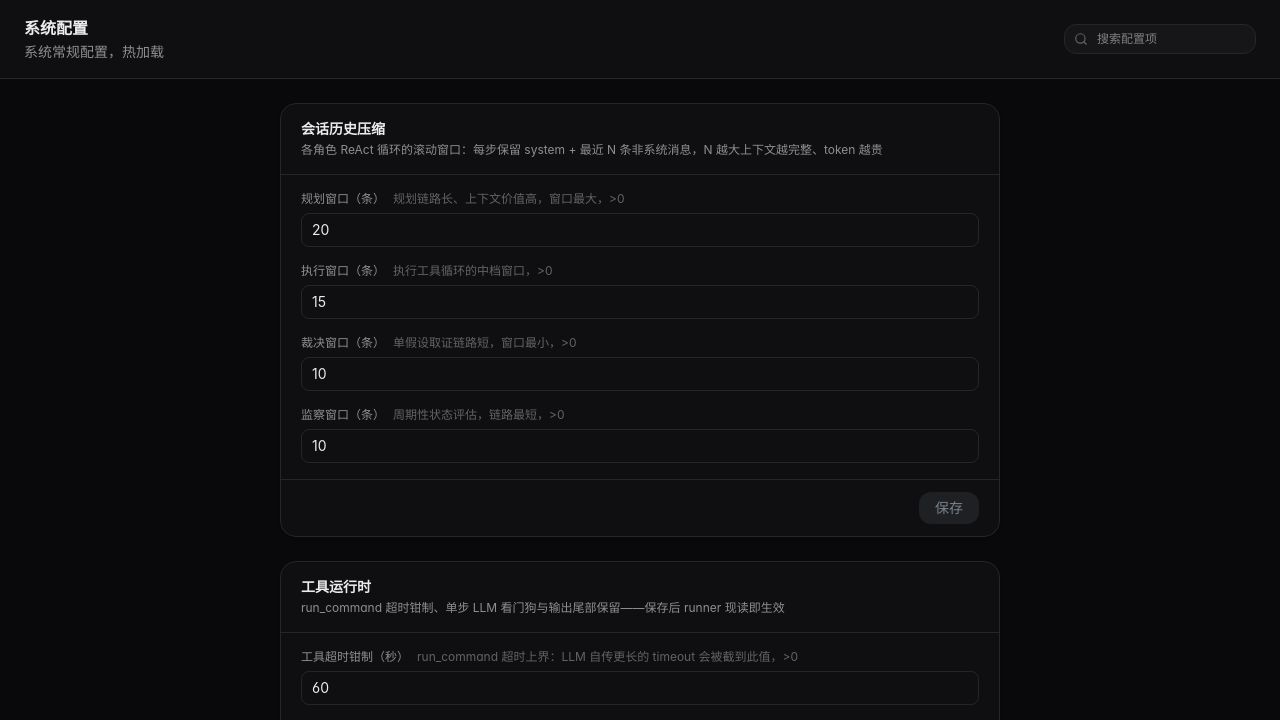
Test: SystemConfig › 编辑 compaction 触发阈值后保存 → 调 saveCompactionSettings 透传新值
The image size is (1280, 720).
Replace the text in the number field showing "20" with "25". click: (640, 230)
box: 301,213 -> 979,247
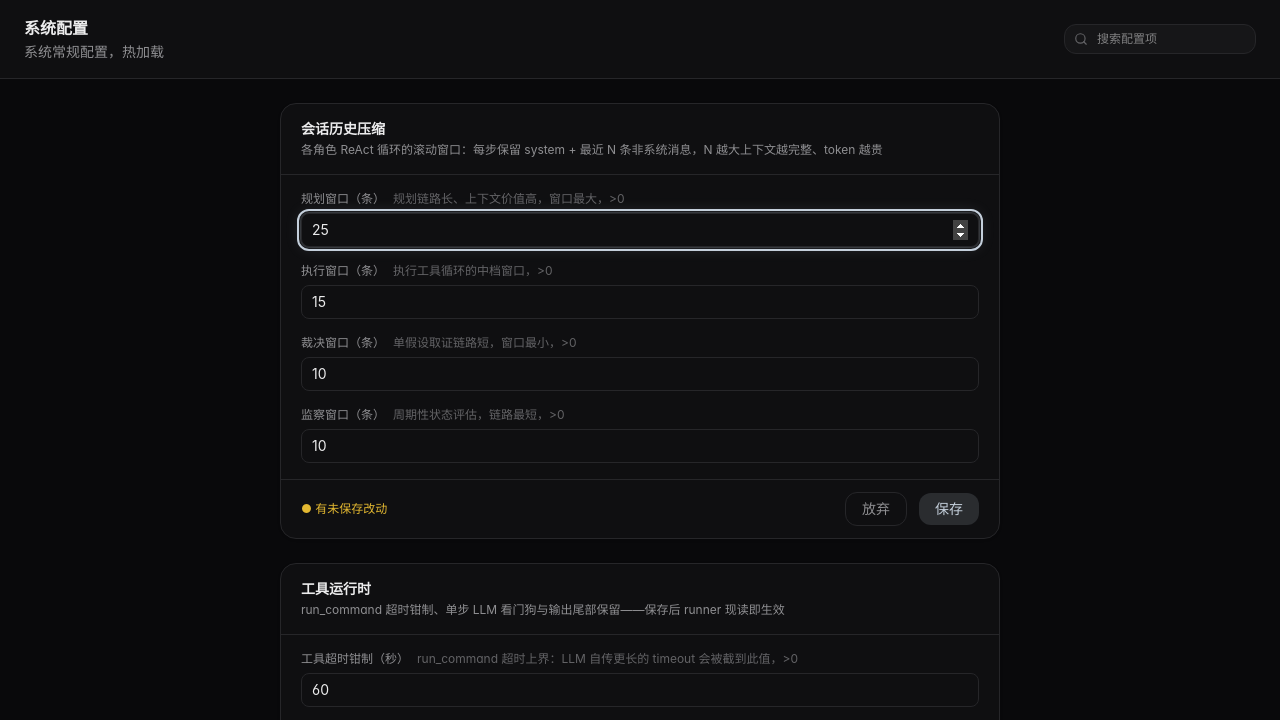
Click the button "保存". click: (949, 509)
box: 919,493 -> 979,525
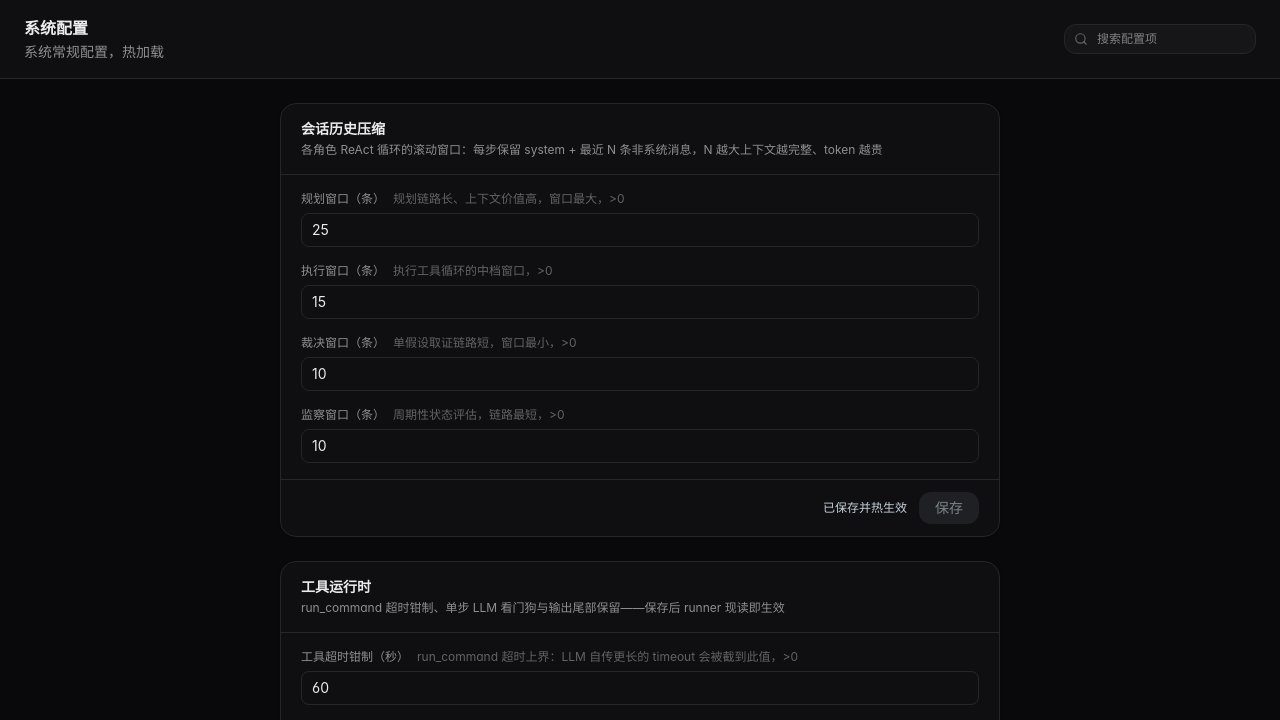
Now the text "已保存并热生效" is shown, box 823,500 -> 907,516
